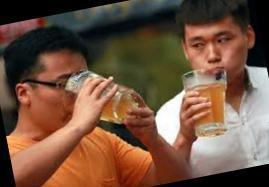Drunk: (185, 25, 245, 75)
